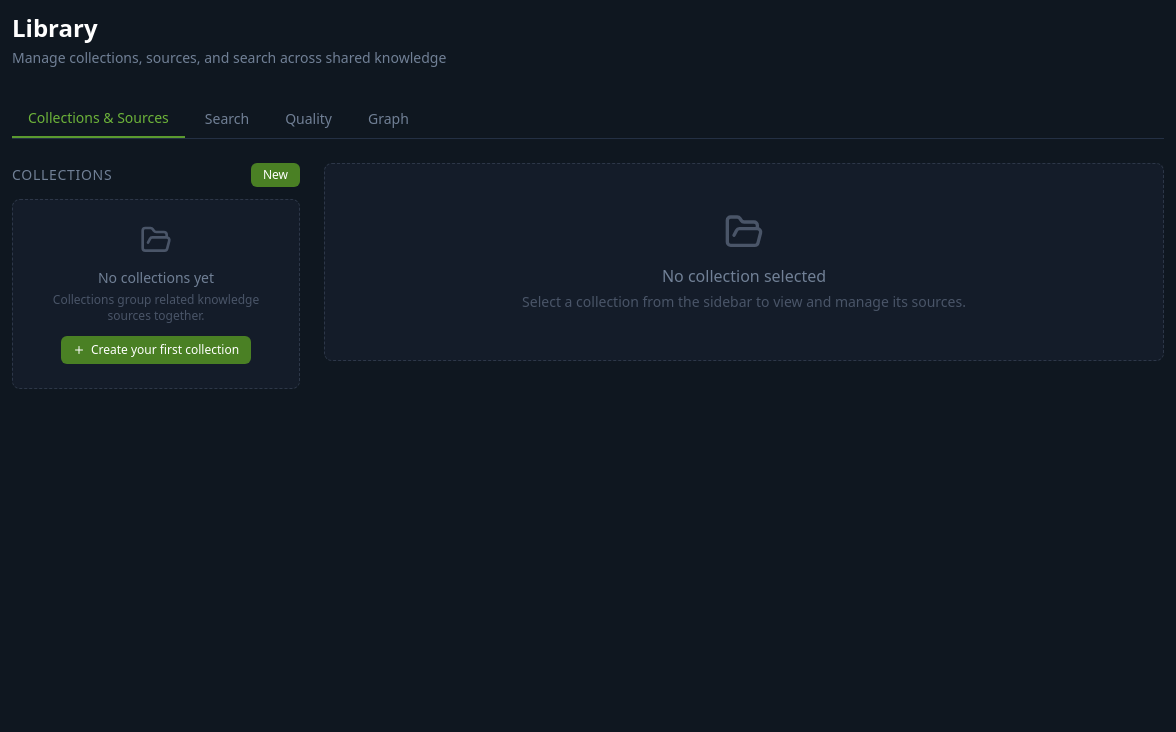
Test: KnowledgeGraph — the live response contract › says how much is drawn when the live shape is truncated
Click the button "Graph" at (388, 119), box top-left (352, 100), bottom-right (425, 138)
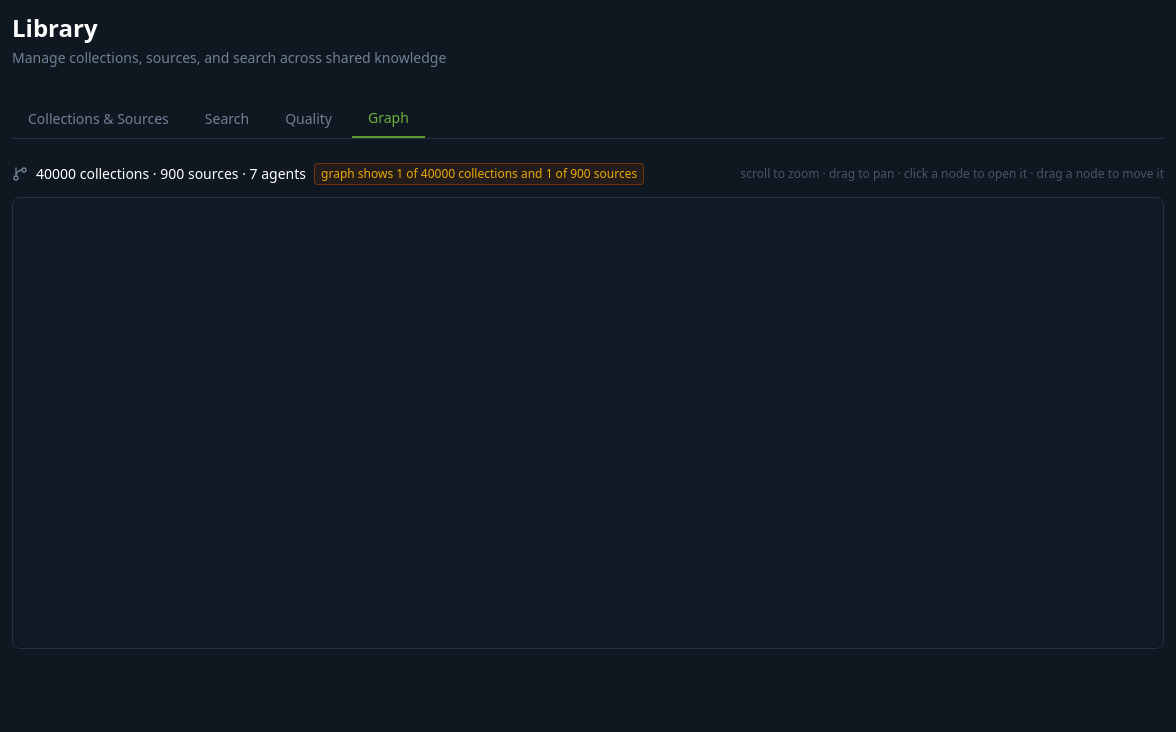
Check: the text with test id "graph-truncated-notice" shows "1 of 40000 collections", box top-left (314, 163), bottom-right (644, 185)
Check: the text with test id "graph-truncated-notice" shows "1 of 900 sources", box top-left (314, 163), bottom-right (644, 185)
